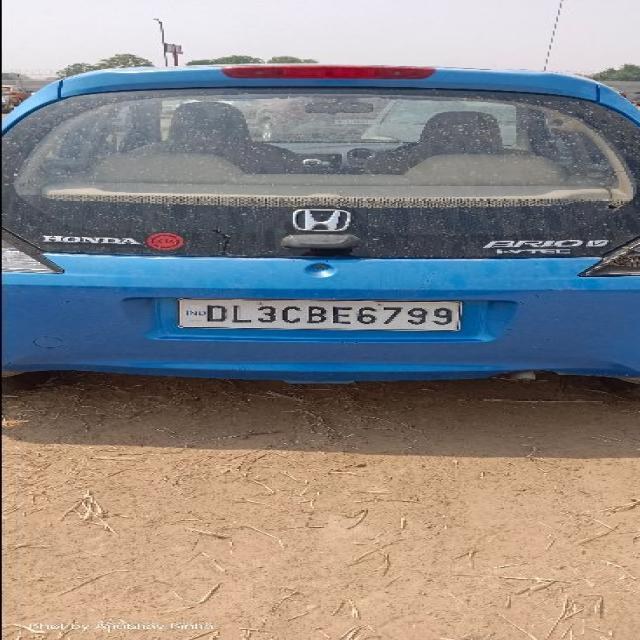license_plate: (175, 297, 462, 332)
